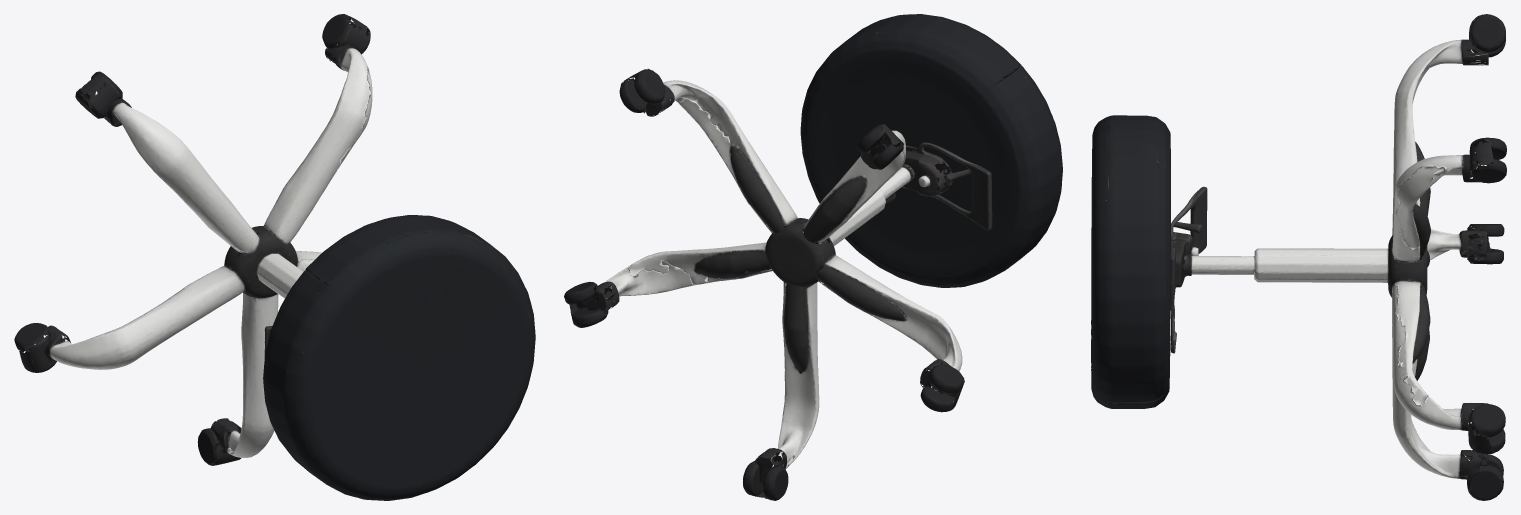
The model's file is trellis2.glb.
3 renders of one model, left to right at view 1: azimuth 30°, elevation 25°; view 2: azimuth 150°, elevation 25°; view 3: azimuth 270°, elevation 25°, orthographic. The views are drawn at different scales.
Parts seen in each view (by area): view 1: world; view 2: world; view 3: world.
Boxes of the visible parts, x1,y1,x2,y2 form: world: (14,14,535,500); world: (564,14,1062,500); world: (1091,14,1506,500).
Bounding box in the file's own units: 1 × 0.9731 × 0.8702.
1 material, 1 textured.
